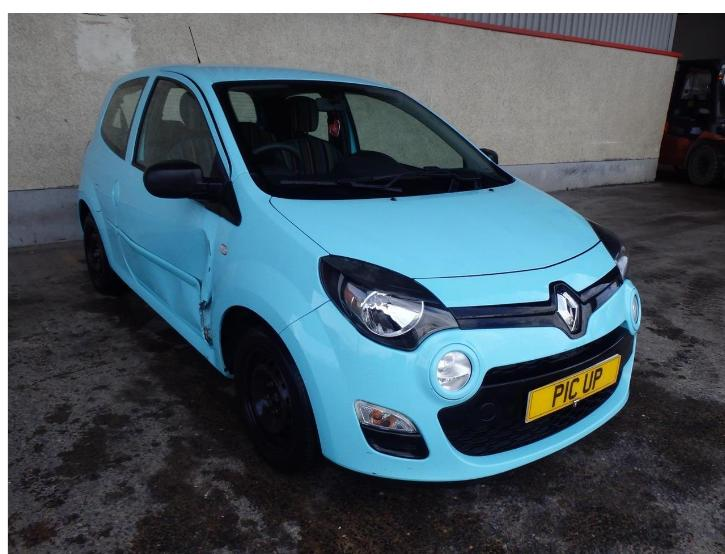Back-wheel: (83, 213, 122, 292)
Back-window: (101, 78, 148, 159)
Fender: (211, 172, 329, 358)
Front-bumper: (280, 280, 641, 480)
Front-door: (116, 70, 231, 350)
Front-wheel: (234, 325, 325, 473)
Front-window: (138, 79, 217, 178)
Grille: (439, 321, 633, 454), (451, 266, 623, 337)
Headlight: (318, 254, 459, 351), (587, 219, 627, 276)
Hood: (270, 176, 599, 279)
License-plate: (526, 355, 620, 420)
Mirror: (144, 160, 221, 204), (482, 148, 496, 162)
Quarter-panel: (77, 140, 129, 275)
Rocker-panel: (111, 260, 224, 375)
Roof: (174, 65, 392, 87)
Windshield: (215, 82, 496, 194)
